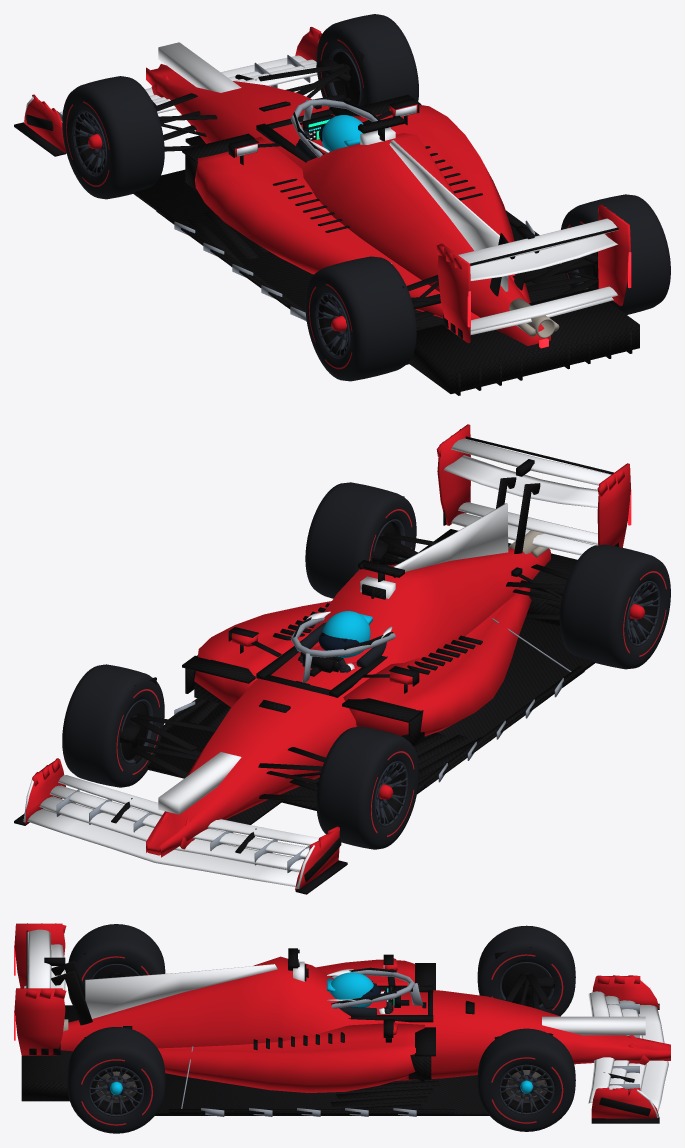
File: f1_car_2026.glb
3 views of the same model, one above another, from view 1: azimuth 30°, elevation 25°; view 2: azimuth 150°, elevation 25°; view 3: azimuth 270°, elevation 25° (orthographic). The views are drawn at different scales.
Visible parts, largest first — view 1: Body, Wheel_RL, Wheel_FL, Wheel_FR, Wheel_RR, RearWing, RearWing_Endplate_L, RearWing_DRS, RearWing_Endplate_R, FrontWing, FrontWing_Endplate_L, Suspension_RR (+10 smaller); view 2: Body, FrontWing, Wheel_RL, Wheel_FL, Wheel_FR, Wheel_RR, RearWing, RearWing_DRS, RearWing_Endplate_L, CockpitTub_Interior, Suspension_FR, RearWing_Endplate_R (+8 smaller); view 3: Body, Wheel_RR, Wheel_FR, Wheel_FL, FrontWing, Wheel_RL, RearWing_Endplate_R, FrontWing_Endplate_R, RearWing, RearWing_DRS, Halo_Titanium, FrontWing_Endplate_L (+8 smaller).
Boxes of the visible parts, x1,y1,x2,y2 form: Body: (133, 42, 639, 395); Wheel_RL: (305, 256, 416, 381); Wheel_FL: (62, 76, 164, 199); Wheel_FR: (316, 14, 418, 108); Wheel_RR: (561, 194, 670, 314); RearWing: (470, 225, 617, 334); RearWing_Endplate_L: (436, 243, 470, 342); RearWing_DRS: (458, 218, 618, 266); RearWing_Endplate_R: (597, 204, 631, 305); FrontWing: (57, 55, 317, 122); FrontWing_Endplate_L: (14, 94, 66, 156); Suspension_RR: (512, 252, 598, 296); Body: (126, 503, 595, 857); FrontWing: (27, 775, 318, 886); Wheel_RL: (559, 544, 670, 669); Wheel_FL: (316, 726, 418, 849); Wheel_FR: (62, 664, 164, 787); Wheel_RR: (305, 482, 416, 598); RearWing: (443, 455, 598, 555); RearWing_DRS: (451, 436, 613, 485); RearWing_Endplate_L: (597, 463, 631, 547); CockpitTub_Interior: (256, 622, 387, 697); Suspension_FR: (130, 714, 217, 778); RearWing_Endplate_R: (436, 424, 470, 525); Body: (21, 948, 670, 1116); Wheel_RR: (67, 1027, 165, 1133); Wheel_FR: (477, 1028, 575, 1131); Wheel_FL: (477, 925, 575, 1016); FrontWing: (588, 991, 668, 1112); Wheel_RL: (68, 924, 165, 1005); RearWing_Endplate_R: (14, 988, 66, 1055); FrontWing_Endplate_R: (591, 1087, 659, 1123); RearWing: (24, 944, 92, 1025); RearWing_DRS: (26, 929, 51, 988); Halo_Titanium: (327, 967, 423, 1008); FrontWing_Endplate_L: (592, 975, 659, 1009).
Size of what is drawn, in the model's own units: 2.13 by 0.9131 by 4.64.
20 materials, 1 textured.
